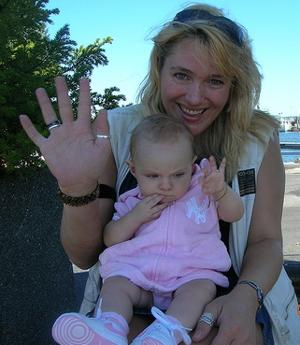person: (52, 115, 244, 345)
